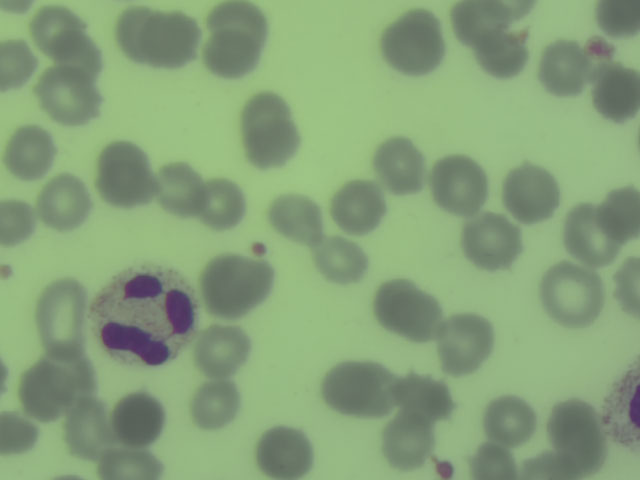Platelets: (584, 34, 618, 66), (247, 237, 273, 264), (435, 453, 457, 480), (1, 258, 19, 286)
RBC: (36, 276, 91, 354), (553, 393, 603, 469), (387, 371, 460, 420), (204, 1, 275, 47), (463, 213, 520, 269), (474, 27, 531, 83), (384, 17, 441, 73), (328, 178, 385, 234), (439, 314, 496, 370), (384, 281, 441, 337), (379, 411, 436, 467), (328, 359, 385, 415), (258, 423, 315, 479), (187, 378, 244, 434), (192, 321, 249, 377), (111, 390, 168, 446), (57, 399, 114, 455), (18, 363, 75, 419), (307, 230, 364, 286), (266, 188, 323, 244), (205, 258, 262, 314), (240, 101, 297, 157), (190, 175, 247, 231), (150, 160, 207, 216), (96, 145, 153, 201), (34, 175, 91, 231), (39, 69, 96, 125), (142, 9, 199, 65), (204, 26, 261, 82), (546, 268, 603, 324), (564, 206, 621, 262), (534, 40, 591, 96), (483, 392, 540, 448), (431, 155, 488, 211), (371, 137, 428, 193), (502, 162, 559, 218), (1, 126, 57, 182), (110, 3, 159, 66), (91, 443, 170, 480), (452, 1, 509, 49), (598, 185, 640, 249), (30, 2, 84, 50), (597, 66, 640, 125), (1, 403, 41, 459), (613, 252, 640, 332), (54, 31, 97, 80), (1, 191, 38, 247), (1, 31, 35, 91), (467, 442, 517, 480), (594, 1, 640, 37)
WBC: (93, 261, 209, 371), (601, 355, 640, 456)
